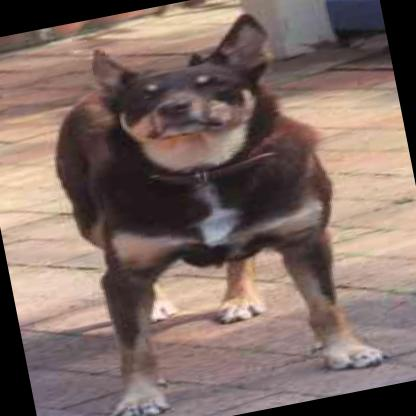kelpie: (26, 0, 388, 416)
